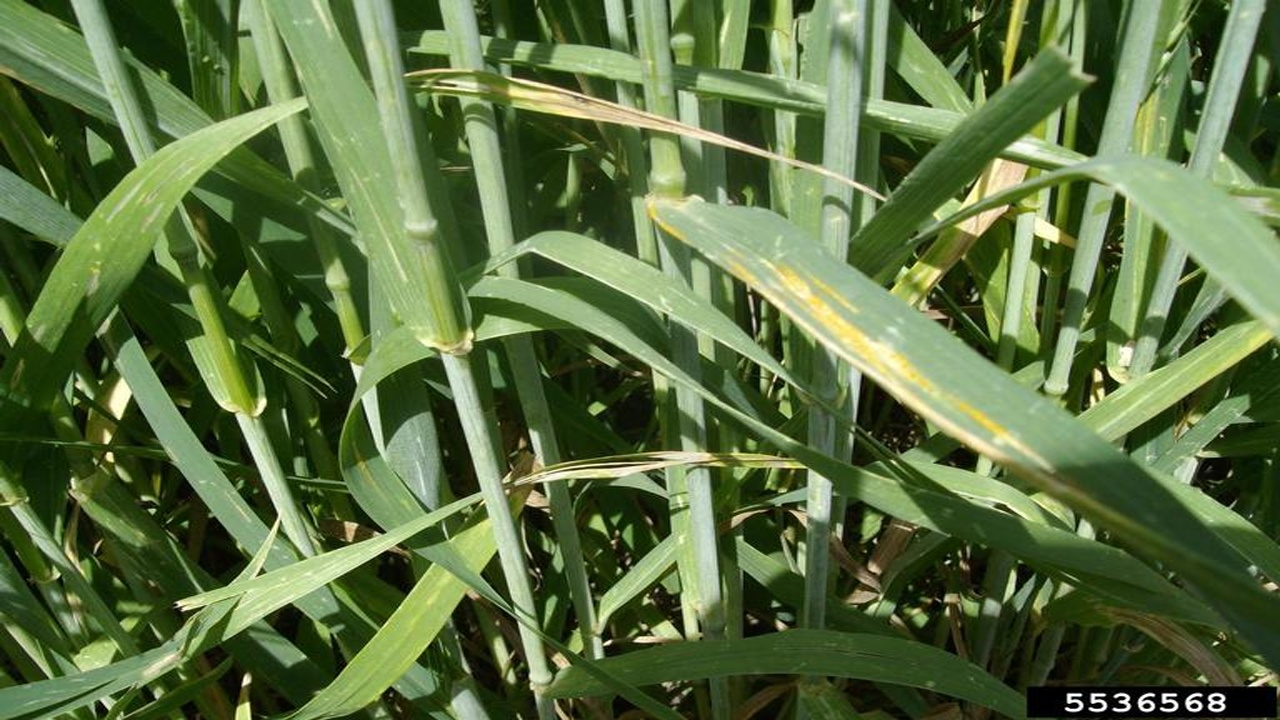stripe_rust: (649, 196, 1261, 605)
